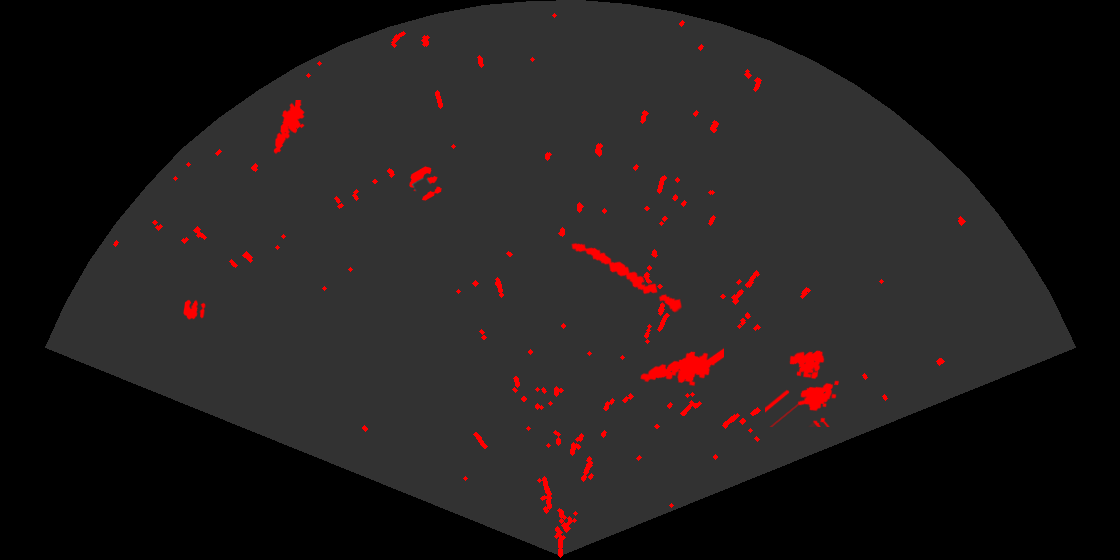ball: (408, 165, 443, 202), (182, 298, 207, 321)
cage: (765, 349, 841, 427)
chain: (570, 241, 684, 314)
frogman: (639, 346, 724, 388), (272, 100, 306, 155)
